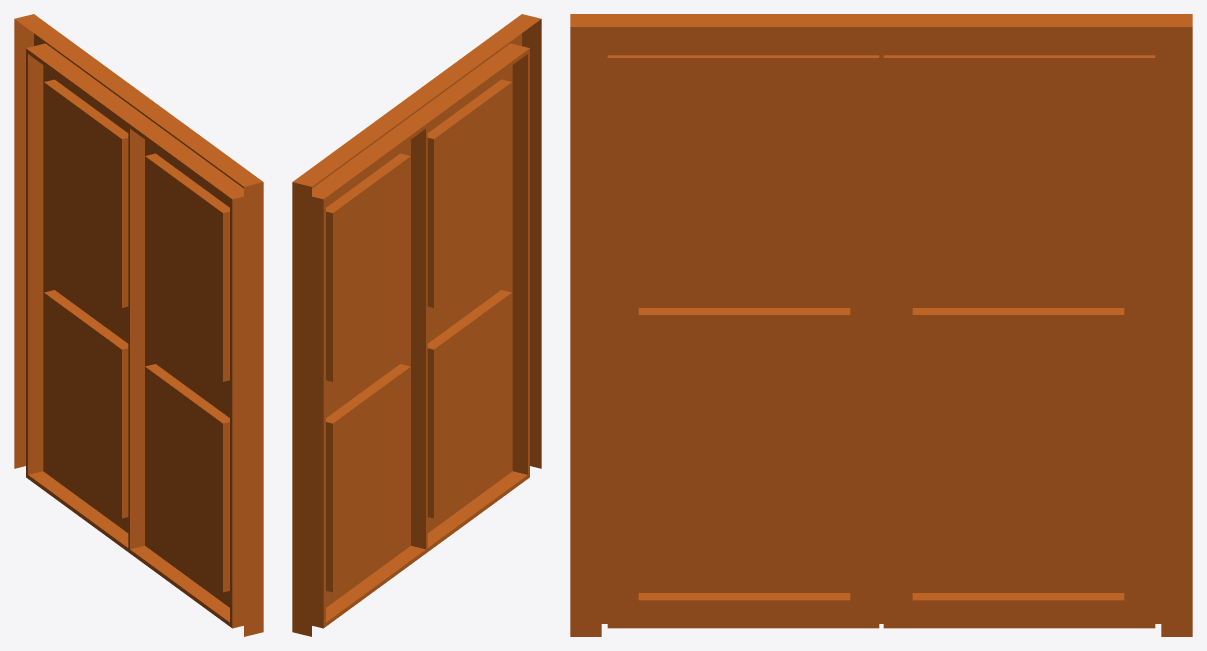
The model's file is P_Door_03.dae.
3 views of the same model, side by side, from view 1: azimuth 30°, elevation 25°; view 2: azimuth 150°, elevation 25°; view 3: azimuth 270°, elevation 25° (orthographic). The views are drawn at different scales.
Visible parts, largest first — view 1: Door_03; view 2: Door_03; view 3: Door_03.
Boxes of the visible parts, x1,y1,x2,y2 form: Door_03: (14,14,263,636); Door_03: (292,14,541,636); Door_03: (570,14,1192,636).
Size of the model in its own units: 0.1099 by 2.22 by 2.4.
